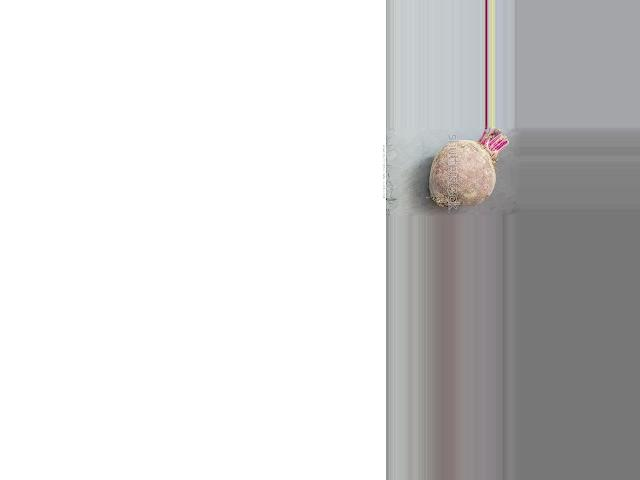beet: (429, 127, 508, 207)
